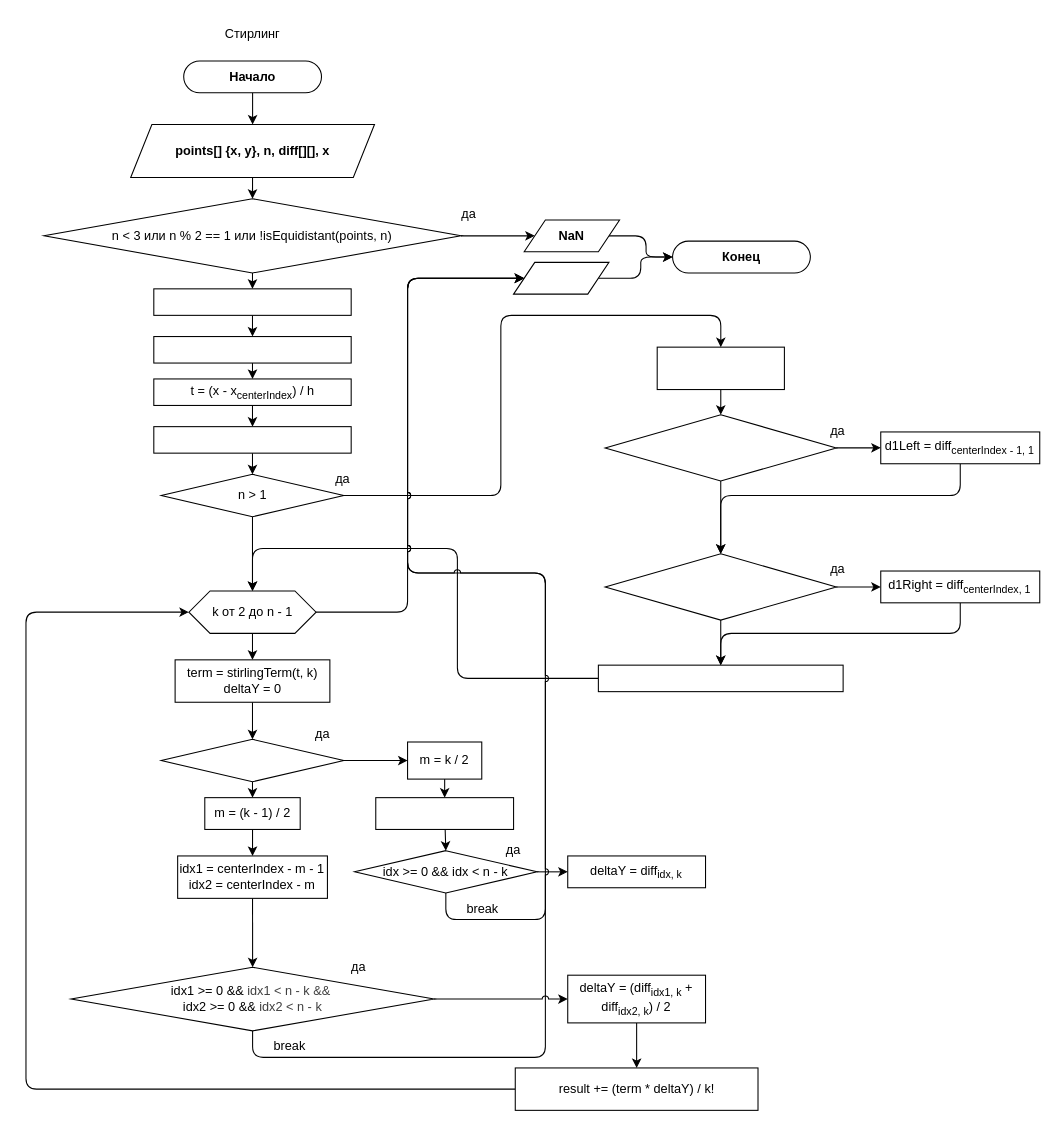
Image size: 1059x1129. Some labels were removed from this diagram. Each missing label, with the centre of its shape:
"centerIndex - 1 >= 0 && centerIndex - 1 < n - 1" belongs at (x=720, y=447).
"centerIndex = n / 2" belongs at (x=252, y=301).
"centerIndex >= 0 && centerIndex < n - 1" belongs at (x=720, y=586).
"d1Left = 0.0 d1Right = 0.0" belongs at (x=720, y=368).
"h = x 1 - x 0" belongs at (x=252, y=349).
"idx = centerIndex - m" belongs at (x=444, y=813).
"k % 2 == 0" belongs at (x=252, y=760).
"Result" belongs at (x=561, y=277).
"result = diff centerIndex, 0" belongs at (x=252, y=439).
"result = result + t * (d1Left + d1Right) / 2" belongs at (x=720, y=678).
